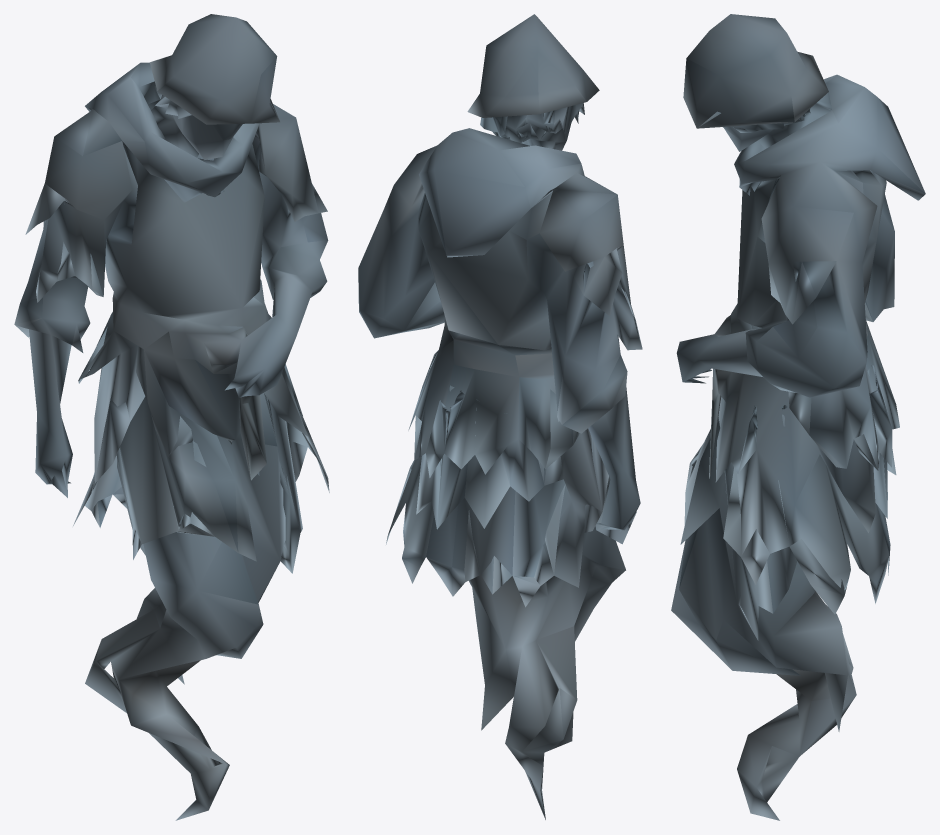
Rendered from ghost-sentinel-far.glb.
3 renders of one model, left to right at view 1: azimuth 30°, elevation 25°; view 2: azimuth 150°, elevation 25°; view 3: azimuth 270°, elevation 25°, orthographic. The views are drawn at different scales.
Size of the model in its own units: 0.7037 by 1.91 by 0.5332.
